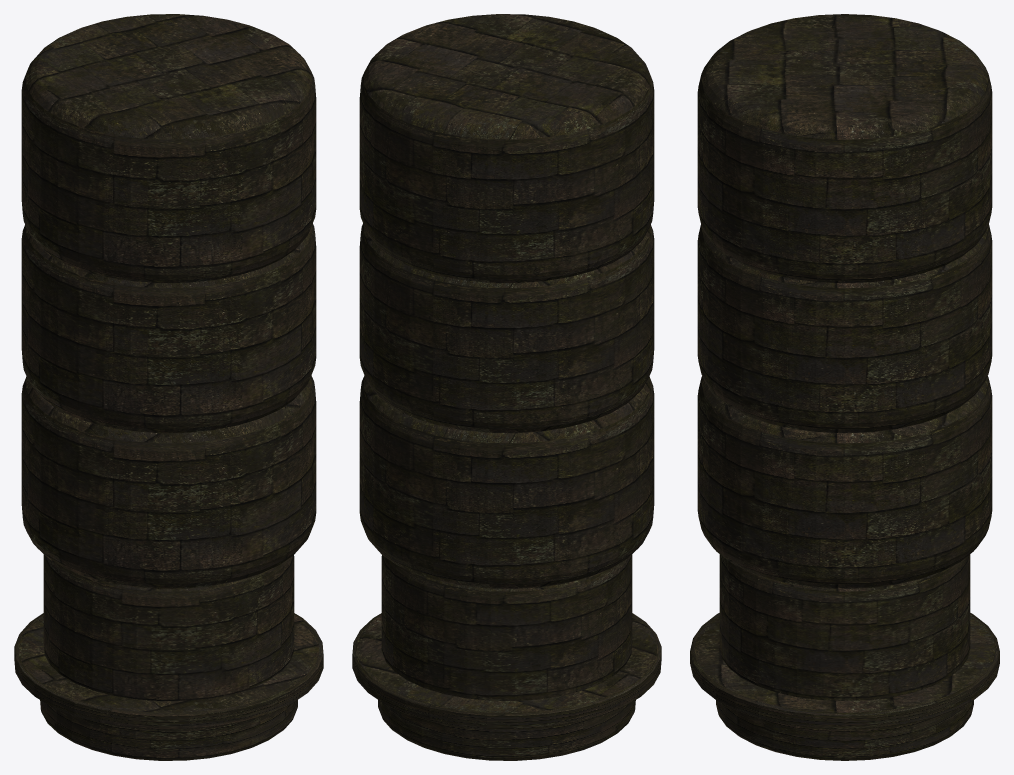
File: RondG.glb
3 views of the same model, side by side, from view 1: azimuth 30°, elevation 25°; view 2: azimuth 150°, elevation 25°; view 3: azimuth 270°, elevation 25° (orthographic).
Parts seen in each view (by area): view 1: Cylinder.010; view 2: Cylinder.010; view 3: Cylinder.010.
Part boxes in pixels (bbox=[...]): Cylinder.010: bbox=[14, 14, 323, 760]; Cylinder.010: bbox=[352, 14, 661, 760]; Cylinder.010: bbox=[690, 14, 999, 760].
Size of the model in its own units: 9.97 by 22.8 by 9.97.
1 material, 1 textured.
